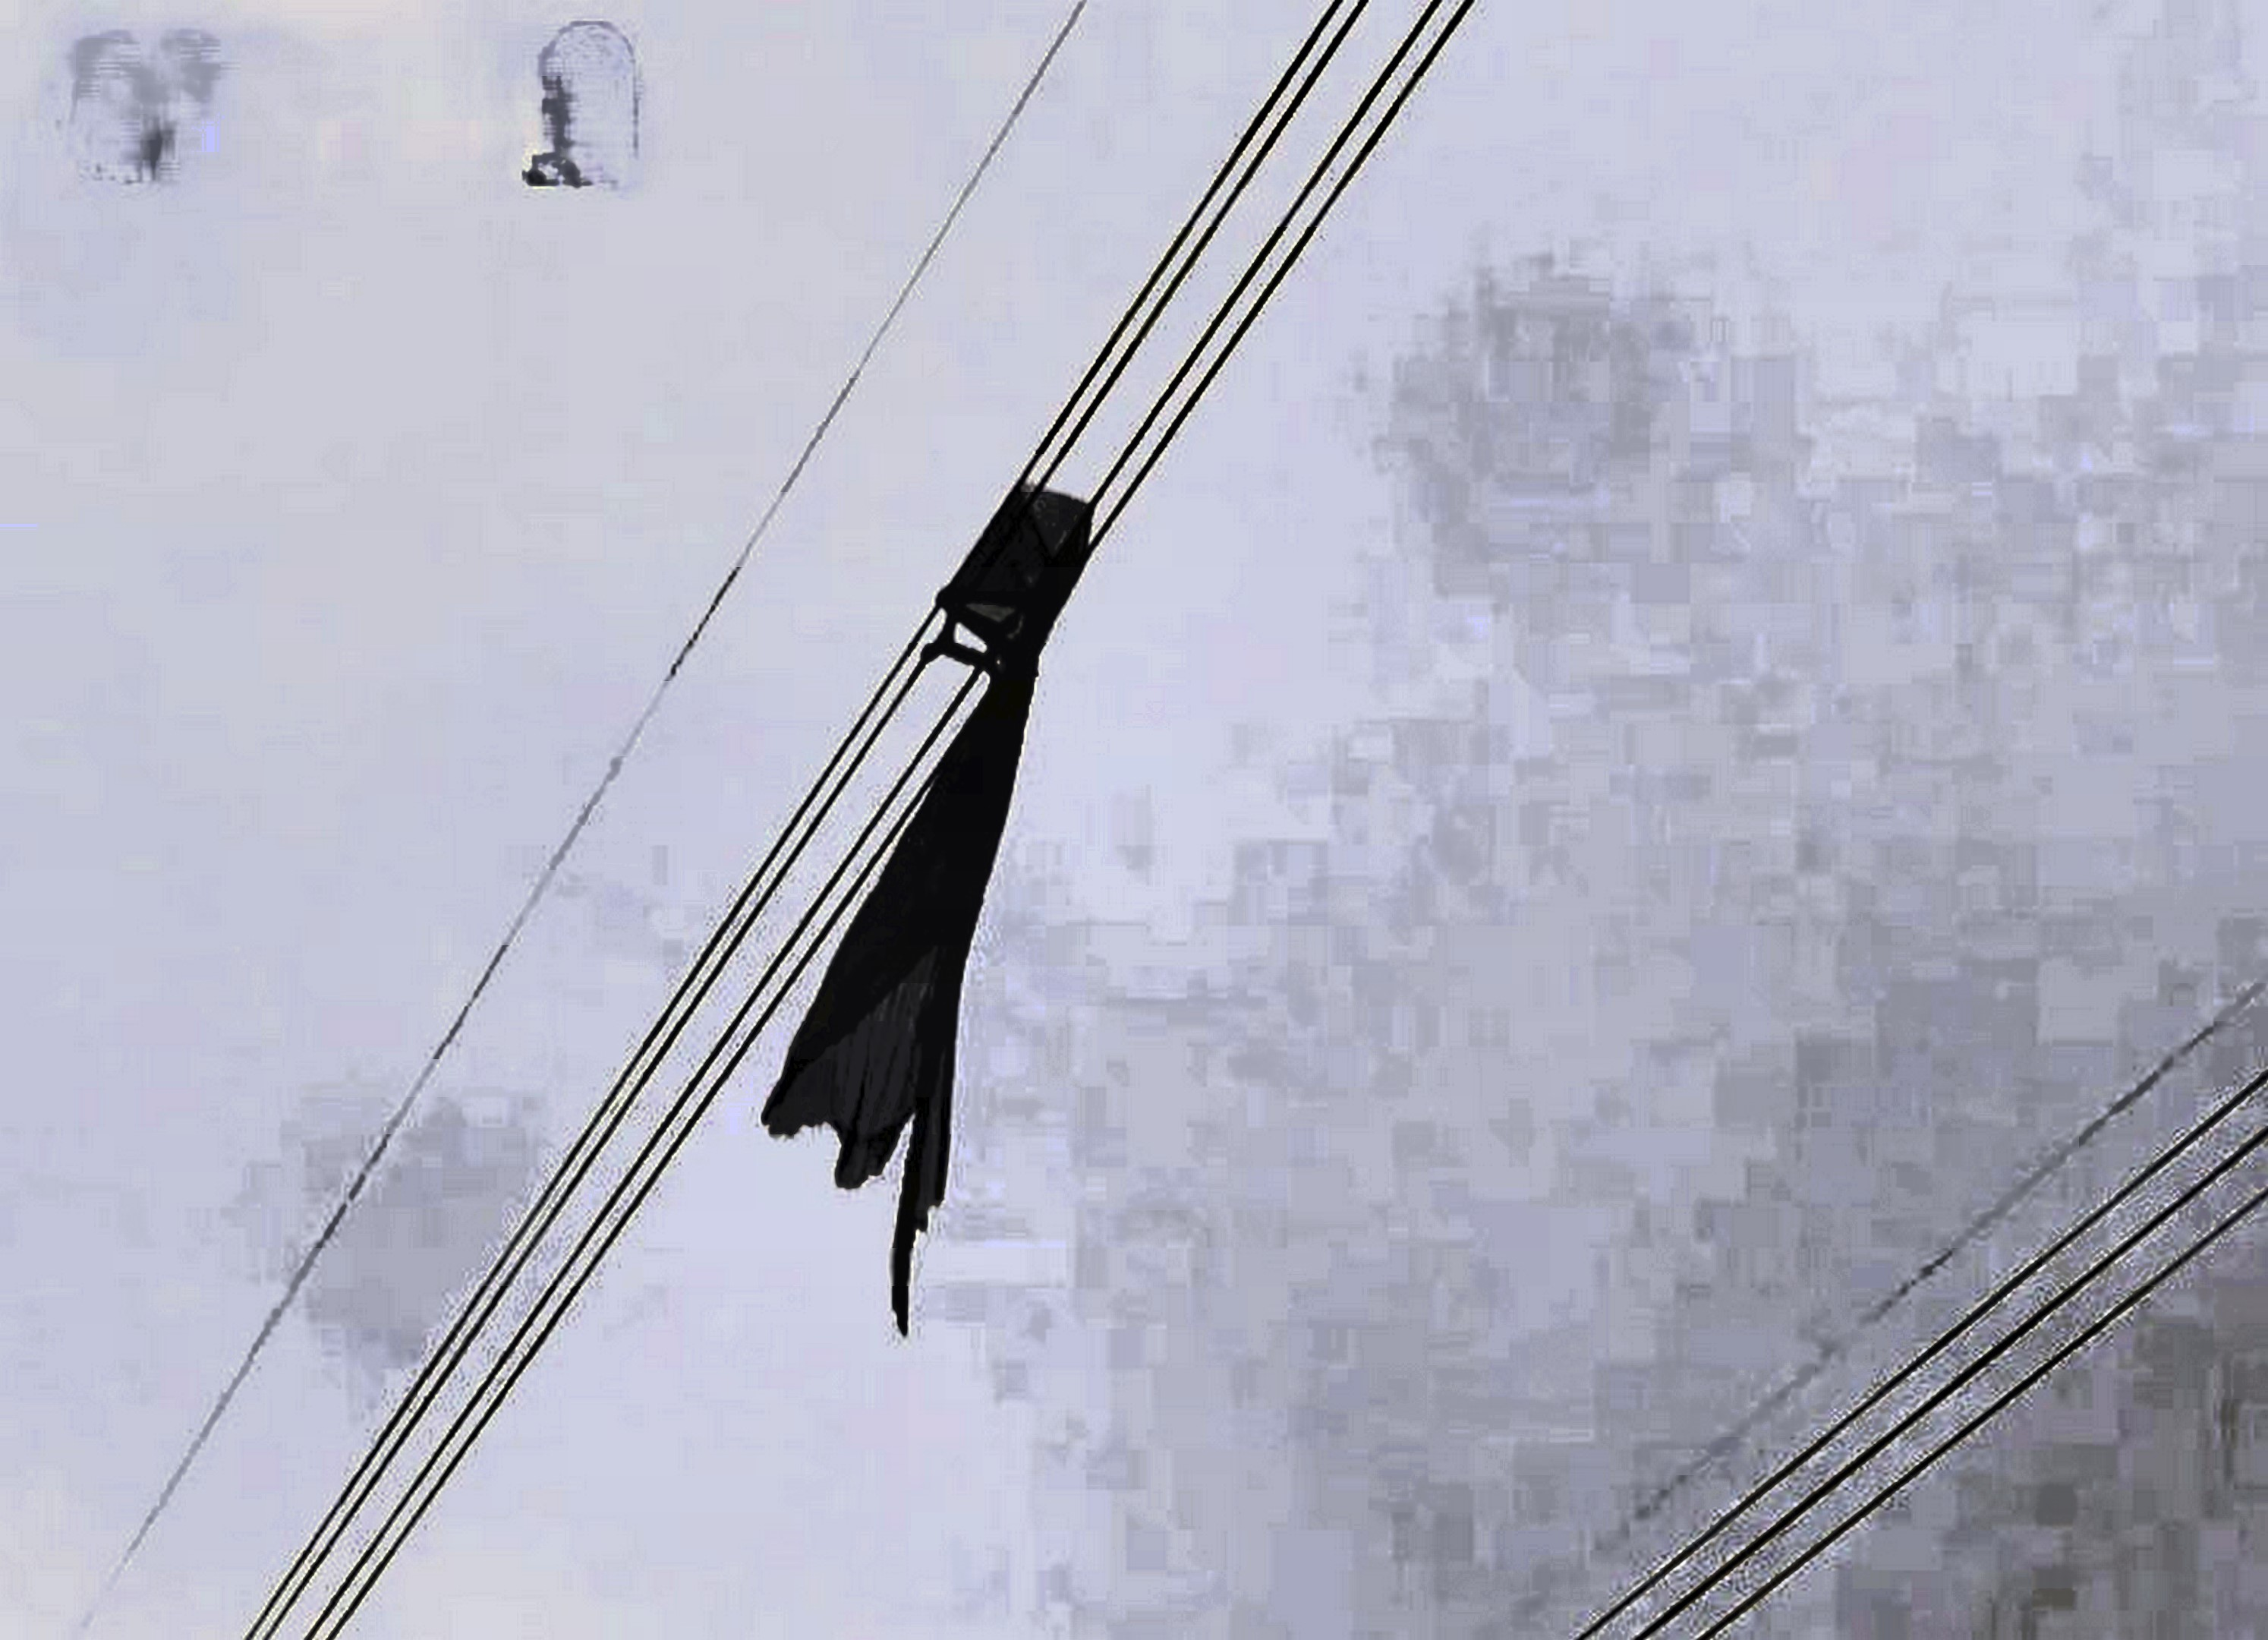wire foreign body: (755, 454, 1150, 1247)
